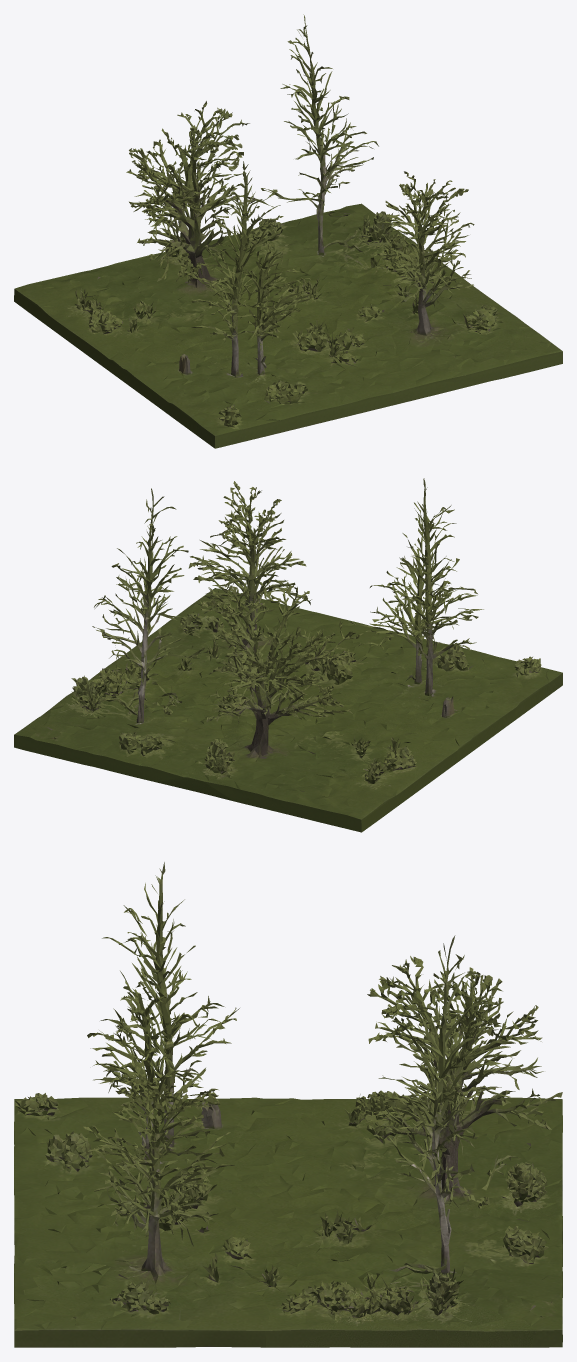
Rendered from grass_trees.glb.
3 renders of one model, top to bottom at view 1: azimuth 30°, elevation 25°; view 2: azimuth 150°, elevation 25°; view 3: azimuth 270°, elevation 25°, orthographic. The views are drawn at different scales.
Visible parts, largest first — view 1: output_unwrapped; view 2: output_unwrapped; view 3: output_unwrapped.
Boxes of the visible parts, x1,y1,x2,y2 form: output_unwrapped: (14,14,562,448); output_unwrapped: (14,478,562,832); output_unwrapped: (14,862,562,1347).
Bounding box in the file's own units: 1.95 × 1.36 × 1.95.
Materials: 1 (1 with a texture image).
